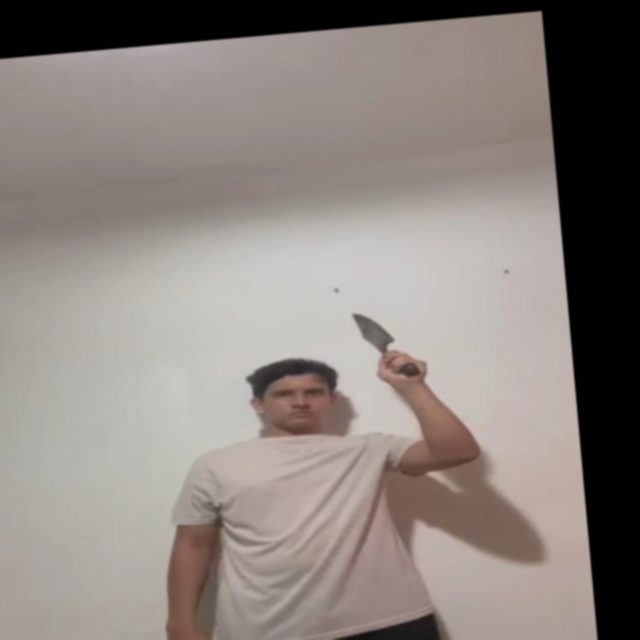Sharp-Object: (352, 308, 399, 355)
